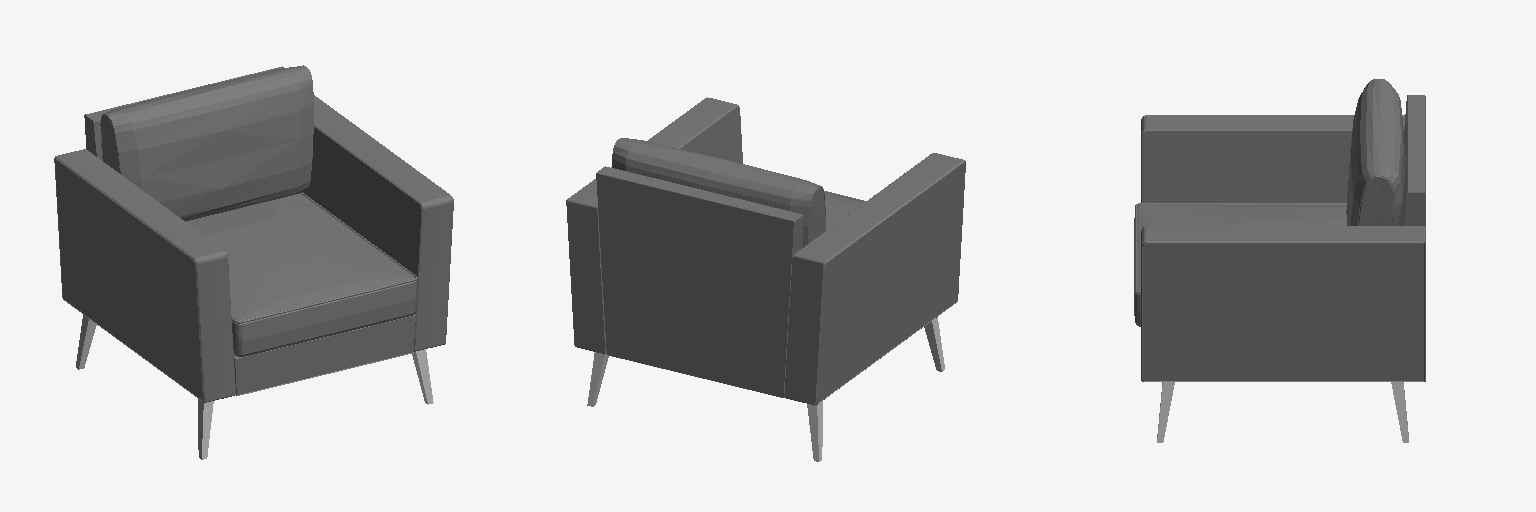
Rendered from modelsi.obj.
3 views of the same model, side by side, from view 1: azimuth 30°, elevation 25°; view 2: azimuth 150°, elevation 25°; view 3: azimuth 270°, elevation 25° (orthographic).
Parts seen in each view (by area): view 1: Pillow_4, Seat_5, LeftShoulder_8, LeftShoulder_2_9, RightShoulder_2_2, RightShoulder_1, Bottom_6, Base_3; view 2: Bottom_6, LeftShoulder_8, LeftShoulder_2_9, Pillow_4, RightShoulder_2_2, Base_3, RightShoulder_1, Seat_5; view 3: RightShoulder_1, LeftShoulder_8, Pillow_4, RightShoulder_2_2, Seat_5, LeftShoulder_2_9, Bottom_6, Base_3.
Boxes of the visible parts, box(x1,y1,x2,y2) form: Pillow_4: box(100, 65, 313, 221); Seat_5: box(186, 192, 417, 356); LeftShoulder_8: box(55, 159, 202, 400); LeftShoulder_2_9: box(54, 149, 235, 402); RightShoulder_2_2: box(314, 95, 453, 351); RightShoulder_1: box(303, 127, 421, 313); Bottom_6: box(84, 66, 415, 395); Base_3: box(76, 315, 433, 459); Bottom_6: box(596, 166, 803, 397); LeftShoulder_8: box(818, 163, 964, 402); LeftShoulder_2_9: box(784, 153, 965, 405); Pillow_4: box(612, 138, 825, 246); RightShoulder_2_2: box(566, 97, 738, 353); Base_3: box(587, 317, 944, 461); RightShoulder_1: box(680, 106, 742, 163); Seat_5: box(824, 191, 865, 230); RightShoulder_1: box(1143, 243, 1423, 380); LeftShoulder_8: box(1142, 131, 1351, 202); Pillow_4: box(1346, 79, 1405, 225); RightShoulder_2_2: box(1141, 226, 1425, 381); Seat_5: box(1134, 203, 1346, 326); LeftShoulder_2_9: box(1141, 115, 1404, 202); Bottom_6: box(1400, 95, 1425, 225); Base_3: box(1157, 382, 1408, 442).
Bounding box in the file's own units: 0.7974 × 0.7691 × 0.7783.